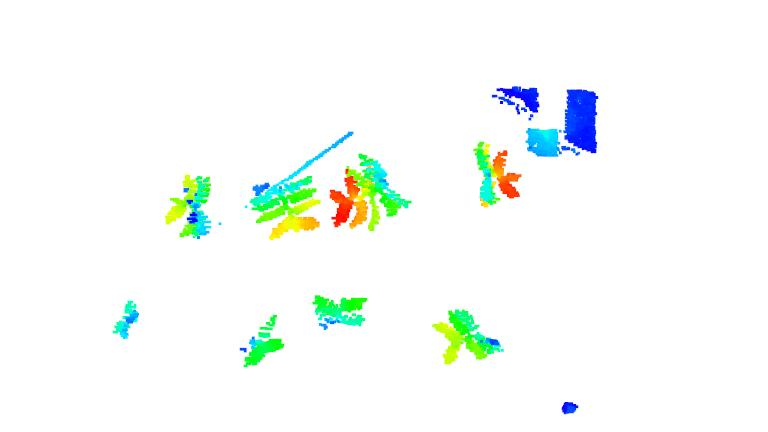chickpea: (328, 153, 407, 231), (250, 178, 322, 240), (430, 309, 503, 364), (471, 139, 521, 207), (163, 174, 213, 239), (238, 314, 286, 369), (311, 292, 370, 329), (110, 300, 142, 339)
